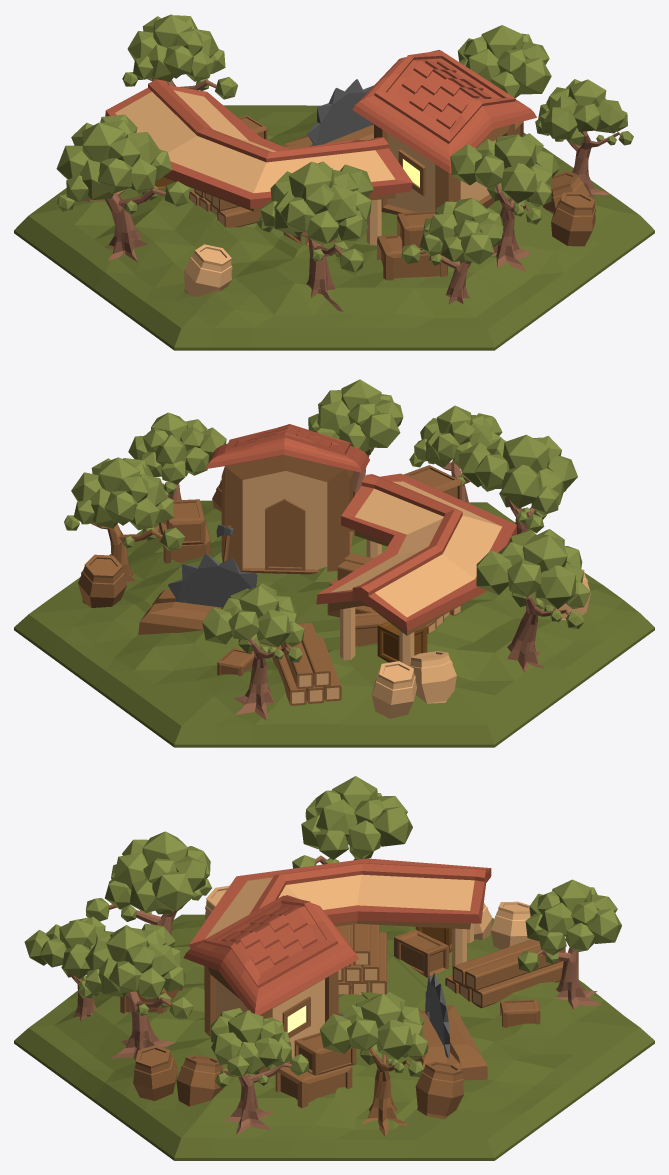
File: lumber_mill.glb
3 views of the same model, one above another, from view 1: azimuth 30°, elevation 25°; view 2: azimuth 150°, elevation 25°; view 3: azimuth 270°, elevation 25° (orthographic).
Parts seen in each view (by area): view 1: lumbermill, saw.top, saw; view 2: lumbermill, saw.top, saw; view 3: lumbermill, saw, saw.top.
Part boxes in pixels (box(x1,y1,x2,y2)): lumbermill: box(14, 14, 654, 350); saw.top: box(307, 79, 373, 145); saw: box(282, 124, 373, 147); lumbermill: box(14, 379, 654, 747); saw.top: box(168, 554, 257, 607); saw: box(138, 589, 271, 646); lumbermill: box(14, 776, 654, 1160); saw: box(415, 1005, 487, 1080); saw.top: box(425, 973, 449, 1058).
Size of the model in its own units: 1.83 by 0.5919 by 2.
